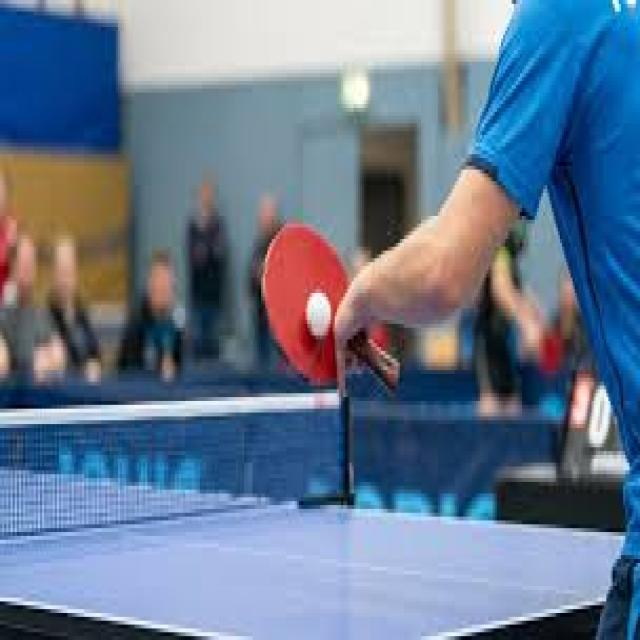TT Net: (0, 391, 357, 549)
TT Racket: (237, 195, 376, 405)
TT Table: (0, 464, 638, 636)
